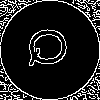Q: (25, 25, 78, 69)
